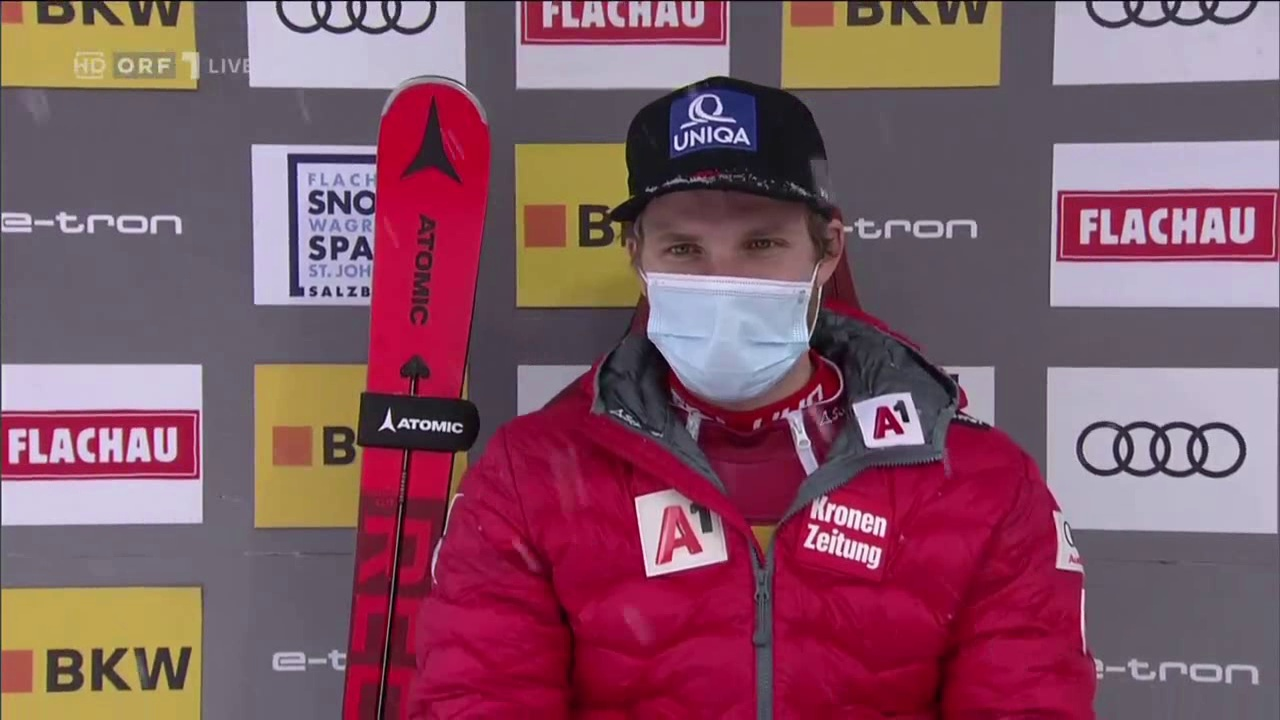a1: (649, 500, 727, 572), (866, 397, 924, 446)
audi: (1072, 421, 1251, 484), (271, 3, 441, 45), (1079, 3, 1269, 38)
etron: (1082, 655, 1269, 690), (823, 216, 979, 245)
flachau: (1054, 185, 1276, 264), (3, 412, 197, 478), (520, 1, 720, 49)
kronenzeitung: (808, 499, 892, 568)
uniqa: (674, 92, 756, 156)
